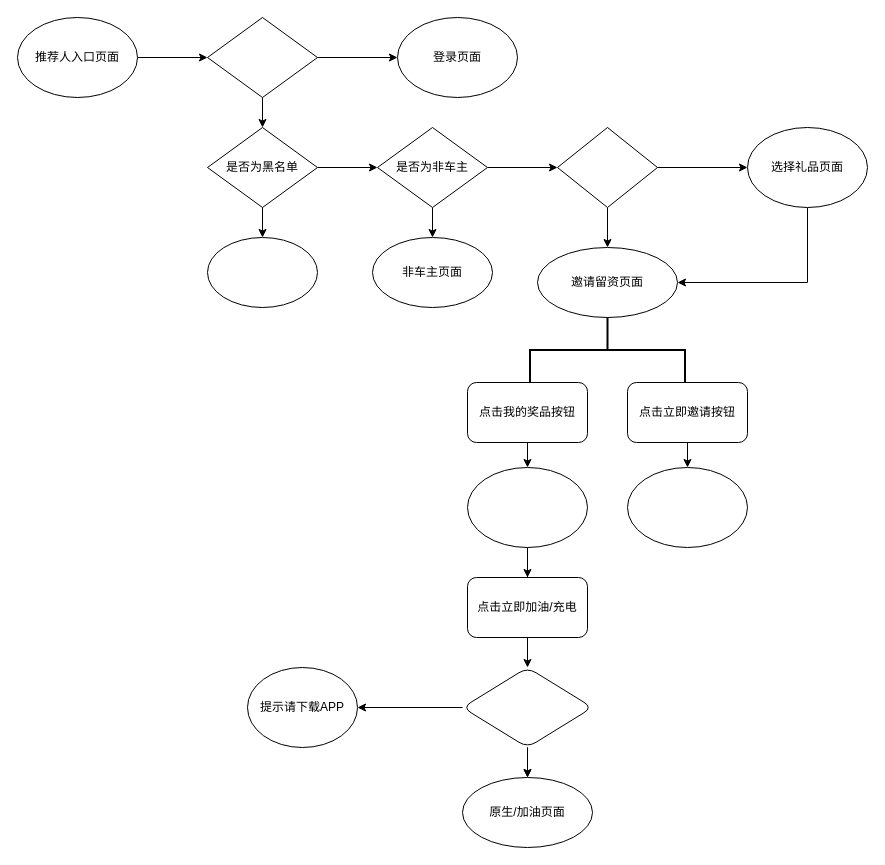
Some shapes in this 885 by 865 pixel diagram are drawn without their labels. Here are the shapes that lost their labels. From the top down, the centre of each, then its label:
the point at 262,57: 是否登录
the point at 607,167: 是否已选择礼品
the point at 262,272: 黑名单页面
the point at 527,507: 我的奖品页面
the point at 687,507: 邀请渠道页面
the point at 527,707: 是否在APP环境
